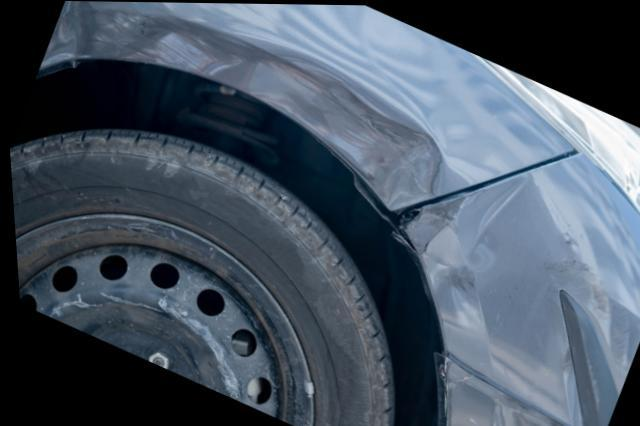dent: (38, 1, 442, 206), (394, 172, 524, 288)
scratch: (534, 253, 628, 379)
